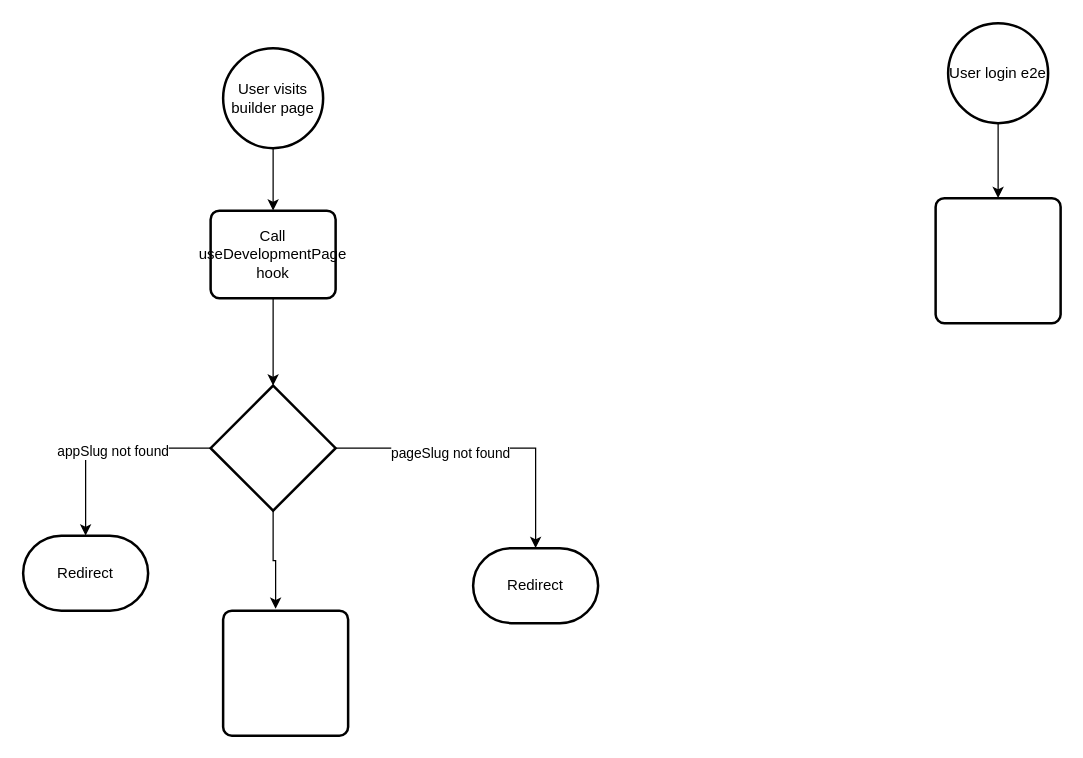
Image size: 1083x758. Some labels were removed from this diagram. The shapes that lost their labels are listed below. From the top down, each one's box as (x1, y1, x2, y2) in pixels, then its label:
(934, 196, 1061, 324): - Clear data - Create user - Seed atom
(209, 384, 336, 511): Success or throw
